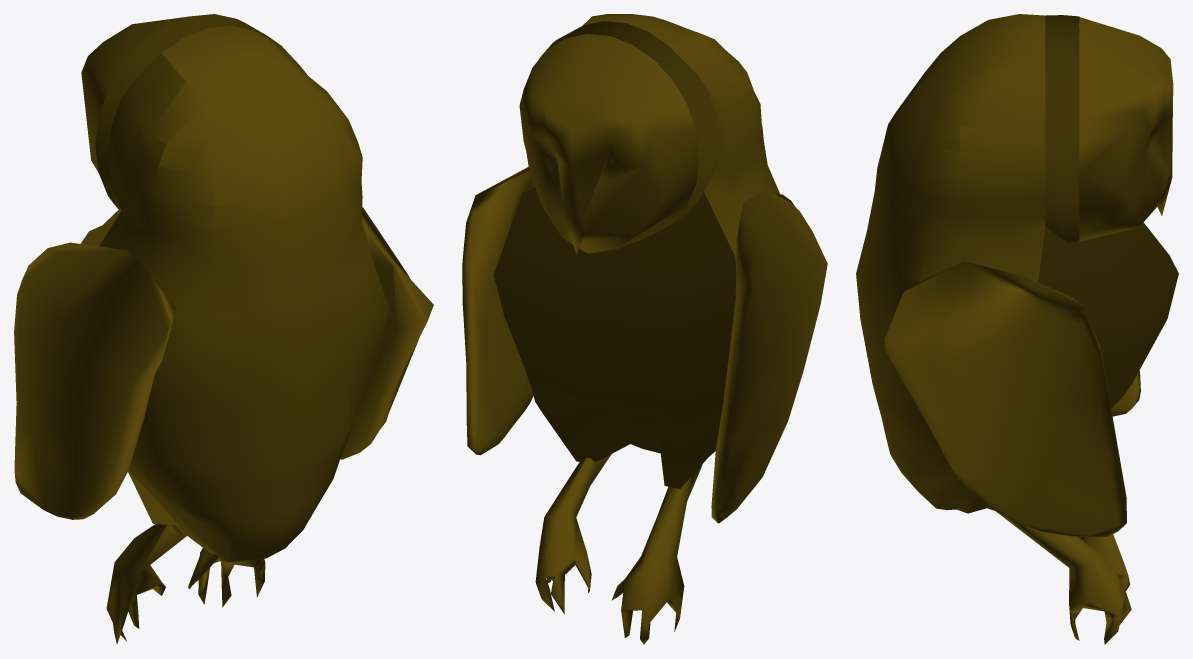
The model's file is Creature Owl.fbx.
3 views of the same model, side by side, from view 1: azimuth 30°, elevation 25°; view 2: azimuth 150°, elevation 25°; view 3: azimuth 270°, elevation 25° (orthographic). The views are drawn at different scales.
Visible parts, largest first — view 1: Owl; view 2: Owl; view 3: Owl.
Part boxes in pixels (x1=…): Owl: x1=14, y1=14, x2=433, y2=643; Owl: x1=462, y1=14, x2=827, y2=644; Owl: x1=856, y1=14, x2=1178, y2=644.
Size of the model in its own units: 3539 by 6228 by 2985.
